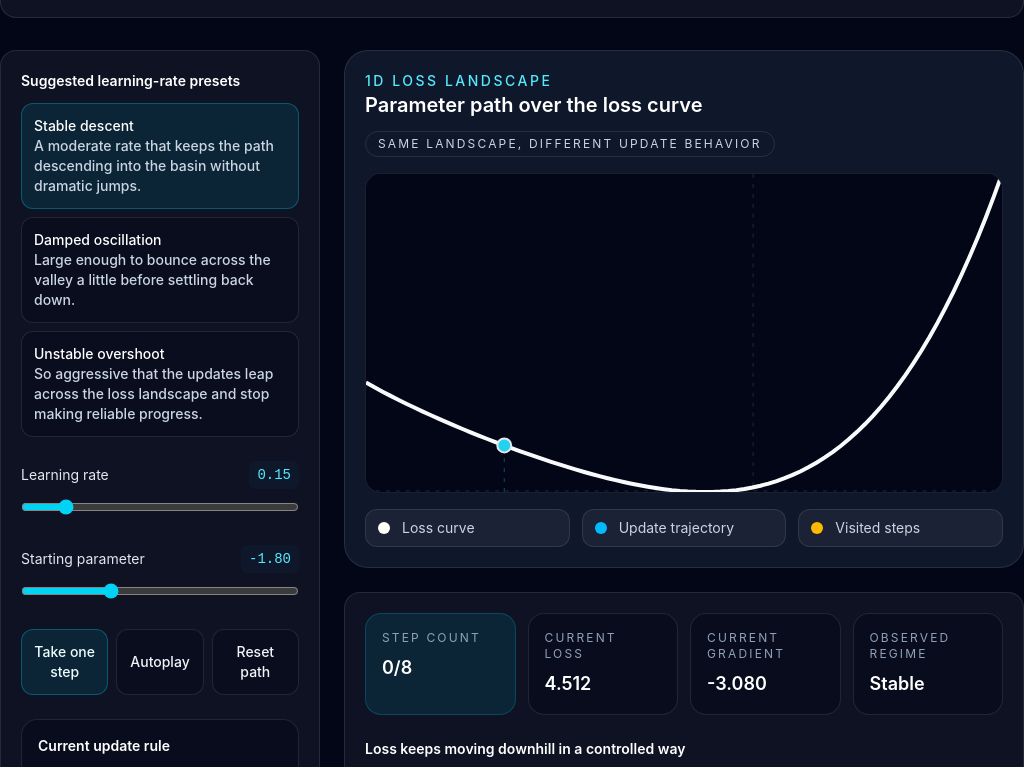
Test: GradientDescentPage › updates the controls and step counter when switching presets and taking a step
This screenshot has width=1024, height=767.
(page scrolled)
Click the button "Unstable overshoot". click: (160, 384)
box: [21,331,299,437]
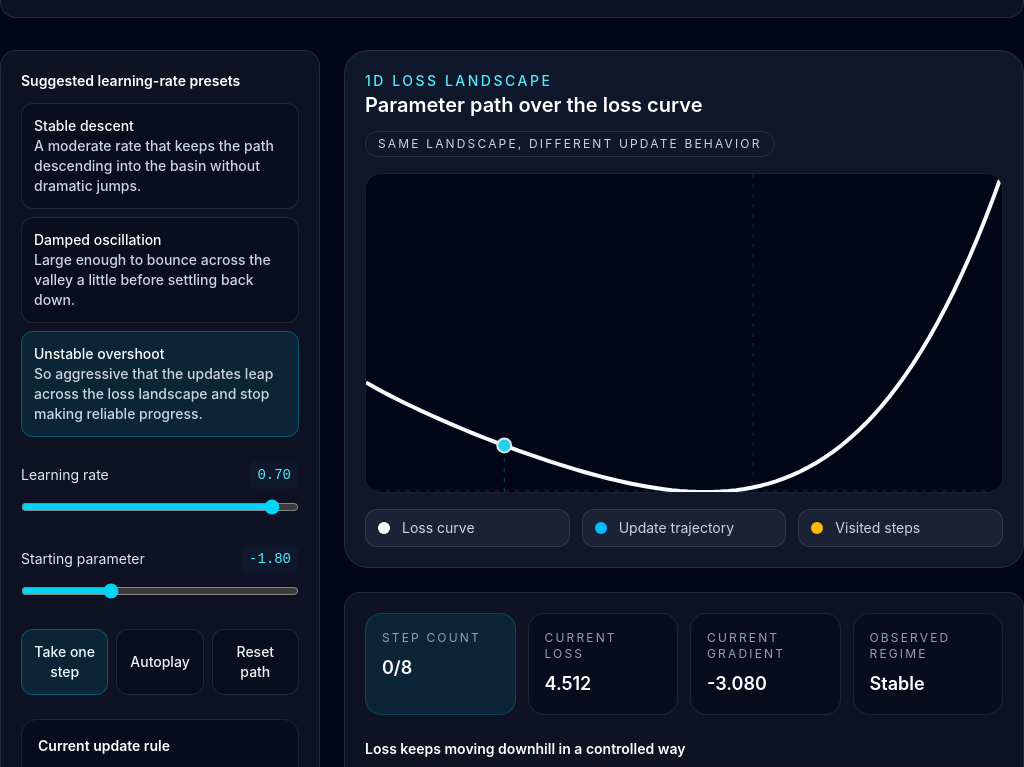
Click the button "Take one step". click: (65, 662)
box: [21,629,108,695]
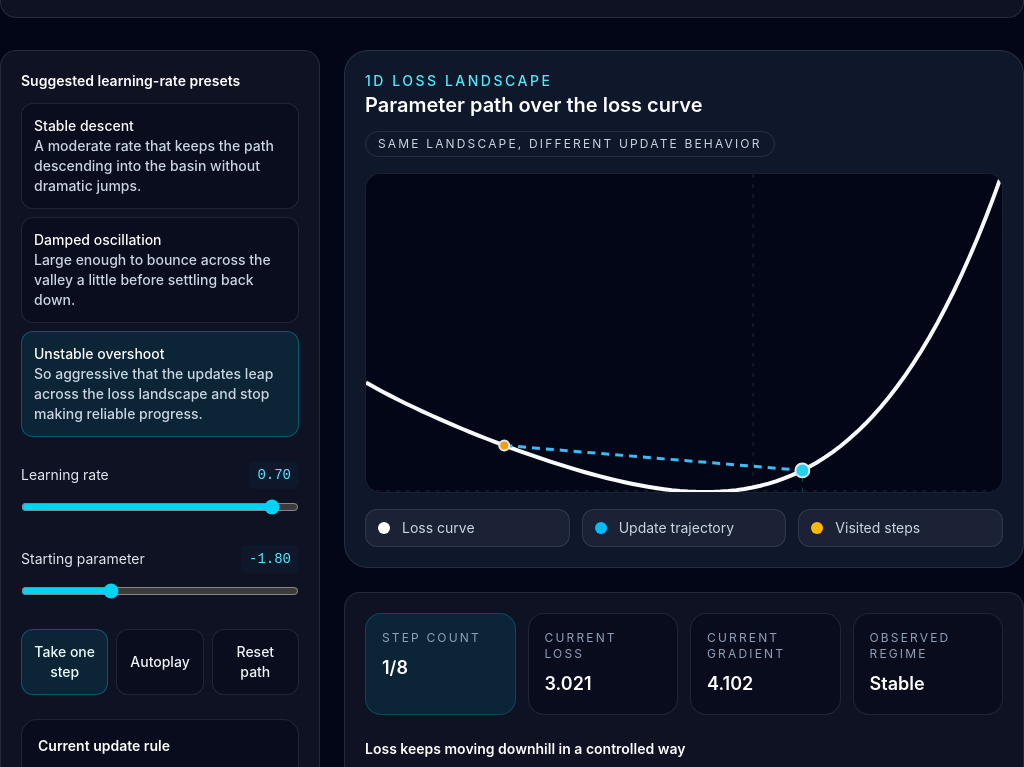
Expected: the text "Current update rule" is shown, [38,737,170,754]
Now the text "0.70" is shown, box [249,461,299,489]
Now the text "1/8" is shown, box [382,657,408,678]
